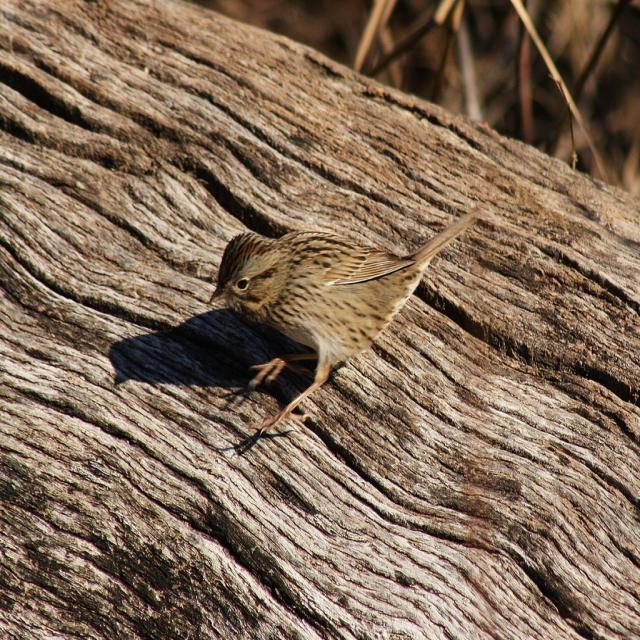bird: (211, 198, 496, 432)
